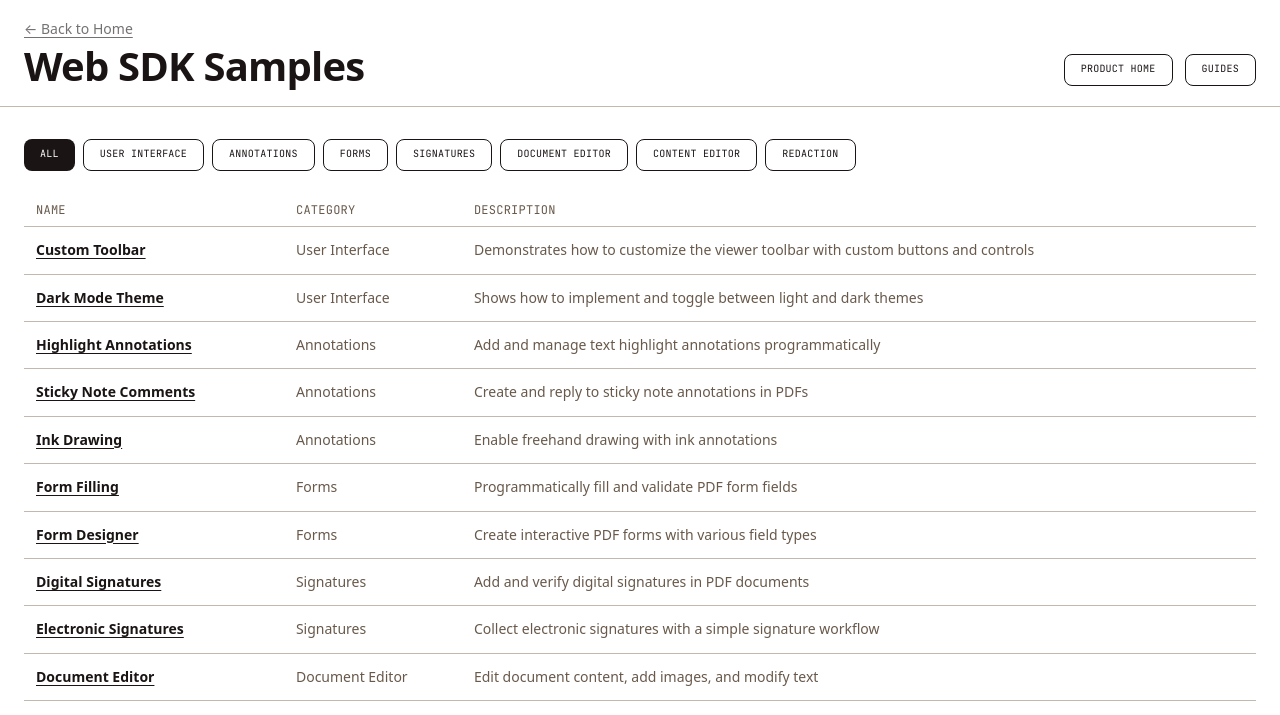
Web SDK Samples Page Filtering › should filter samples by Forms category
Click the button "Forms" at (355, 155), box 323,139 -> 388,171
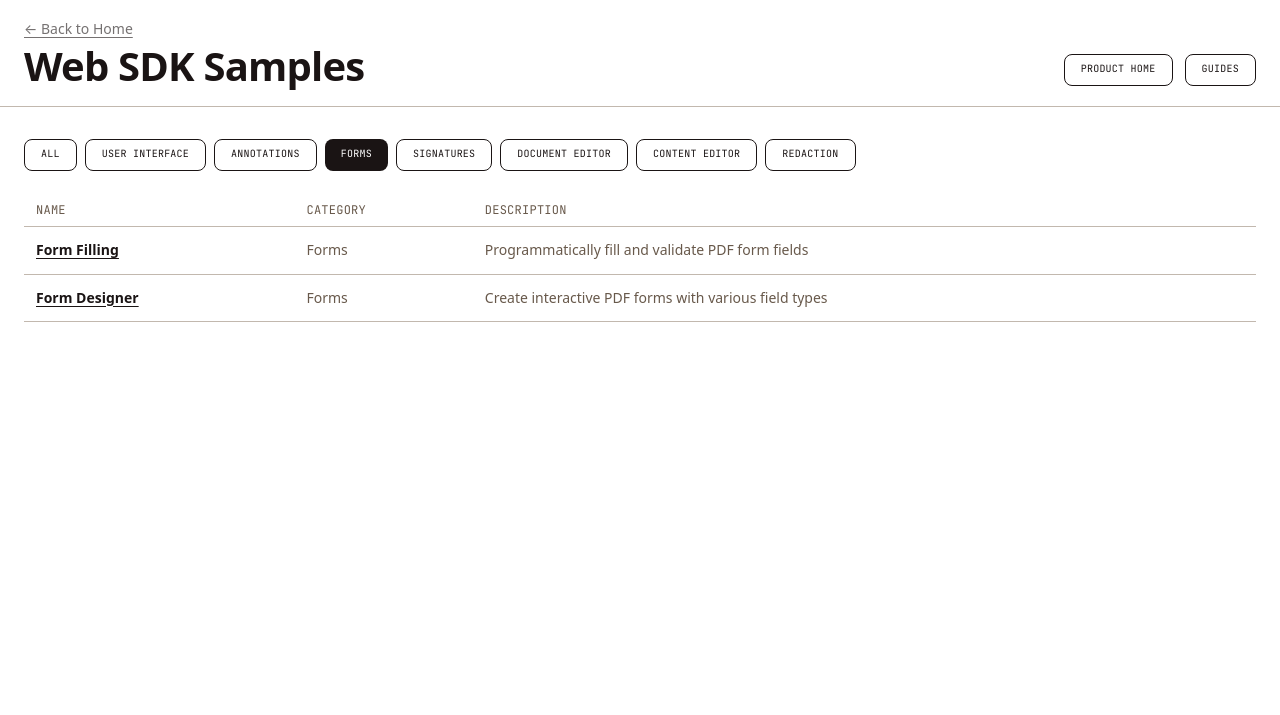
Expected: the link "Form Filling" is shown, 36,240 -> 119,259
Now the link "Custom Toolbar" is gone
Now the link "Highlight Annotations" is gone
